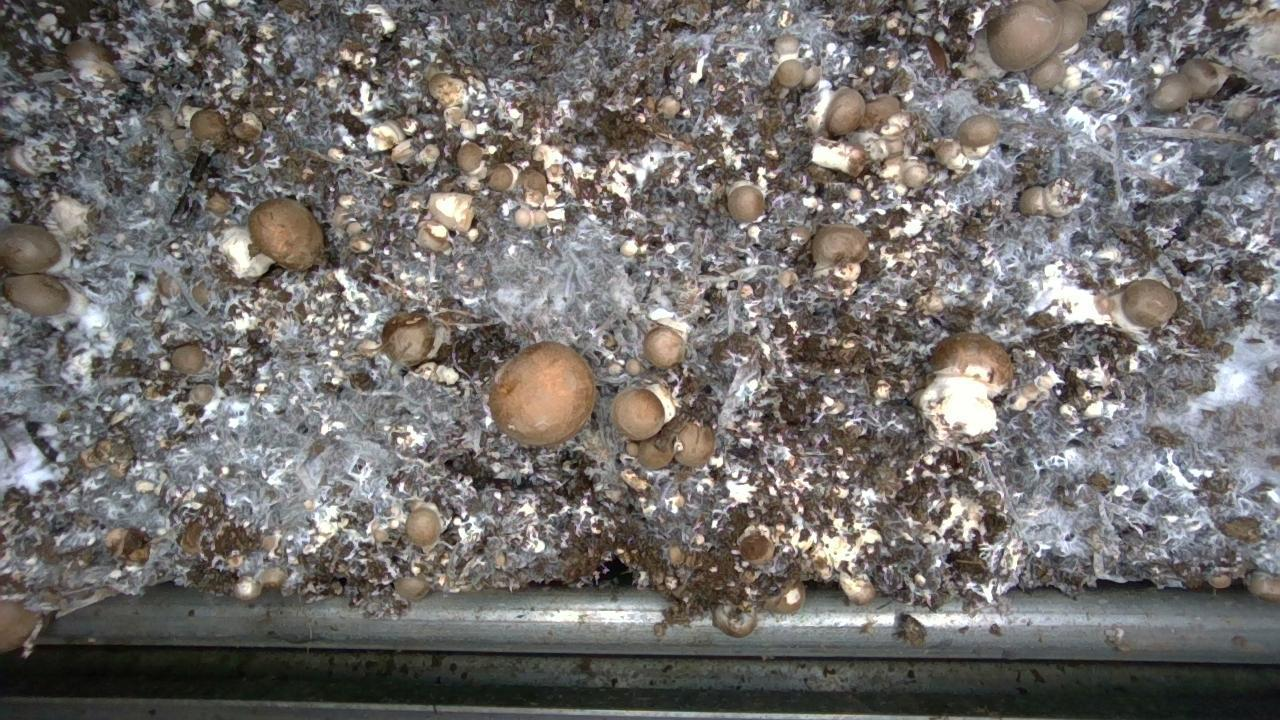BB: (489, 342, 595, 445), (248, 199, 323, 269), (987, 0, 1061, 70), (0, 224, 60, 274), (611, 387, 666, 441), (4, 274, 70, 315), (1122, 279, 1176, 326), (66, 40, 118, 84), (812, 225, 867, 265), (825, 87, 865, 135), (674, 422, 714, 467), (643, 325, 684, 367), (1149, 72, 1192, 111), (955, 114, 999, 148), (712, 604, 757, 637), (727, 184, 764, 221), (1029, 54, 1065, 89), (189, 109, 227, 140), (739, 531, 774, 564), (171, 345, 205, 374), (232, 112, 263, 142), (774, 58, 805, 87), (487, 163, 518, 191), (394, 576, 429, 600)
